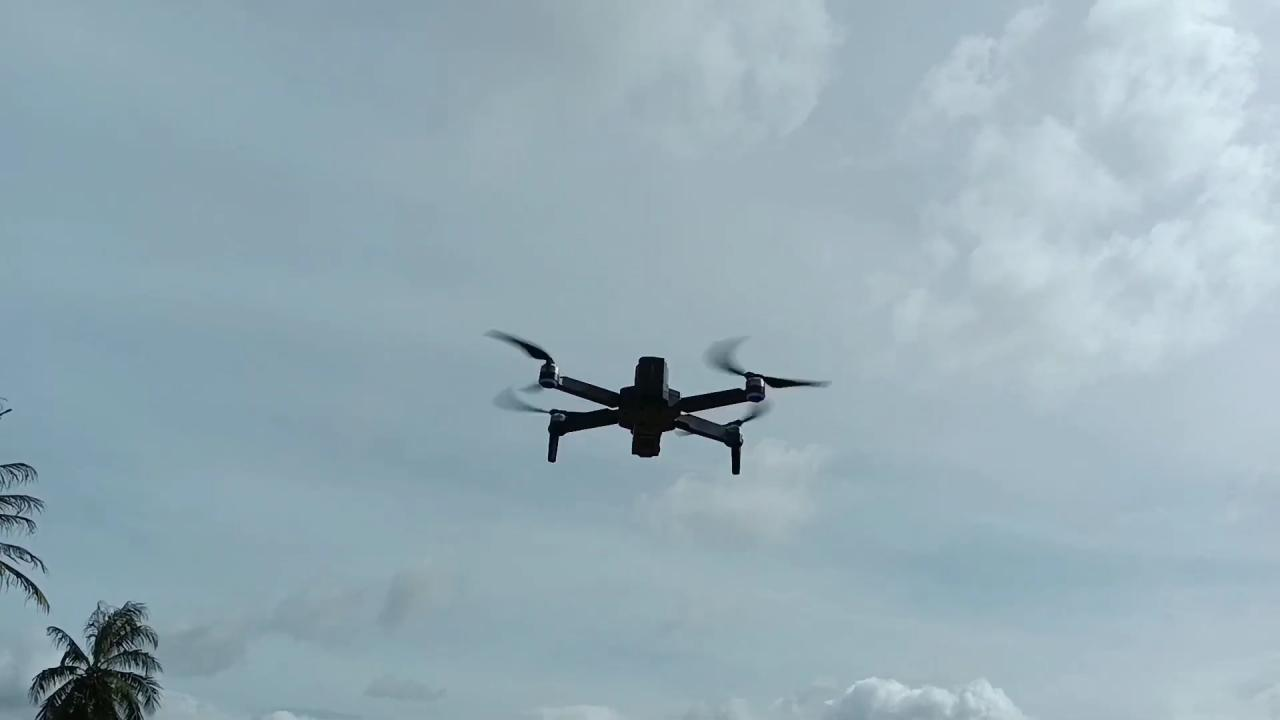Drone: (468, 318, 841, 491)
